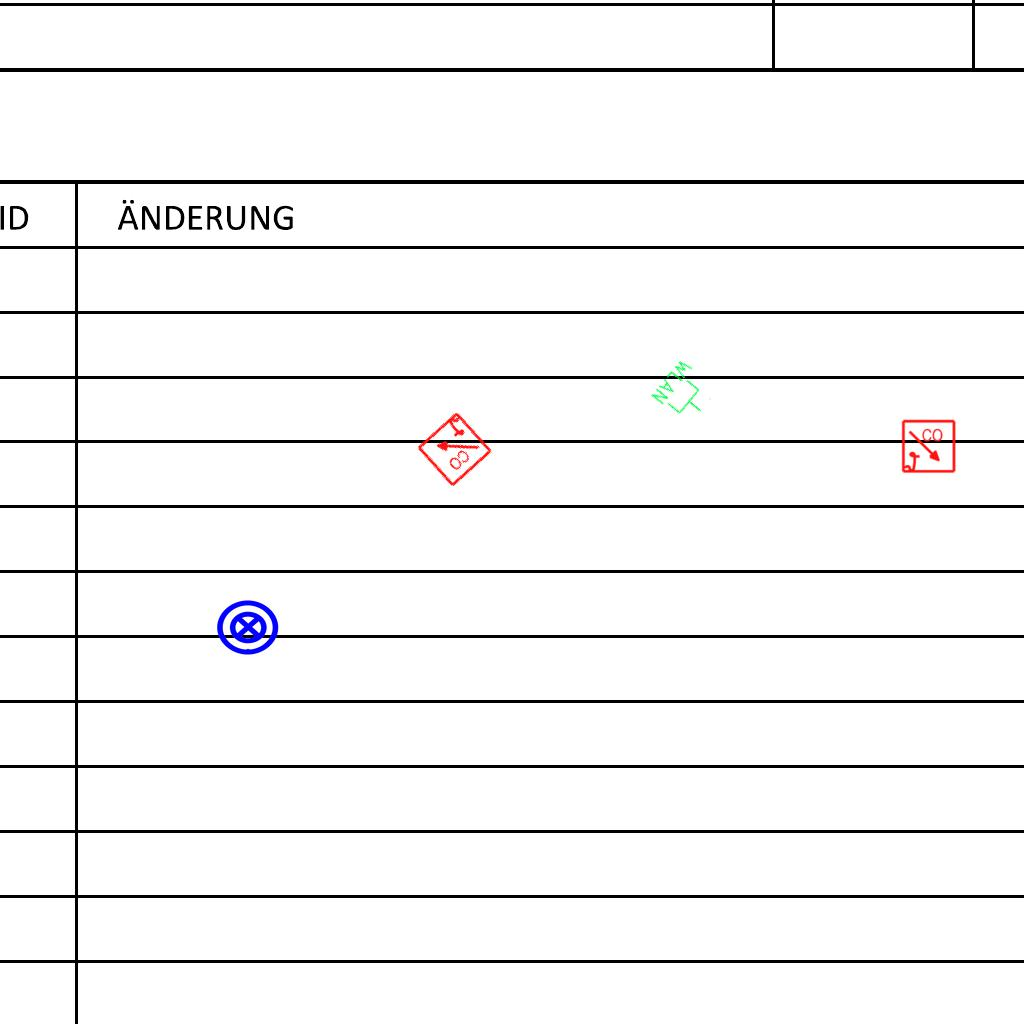ROA_Rauchmelder_optisch_mit_Signalgeber_(Sockelsirene): (414, 409, 494, 489), (901, 419, 957, 475)
Taster_beleuchtet: (215, 594, 281, 660)
WLAN: (648, 355, 722, 429)
